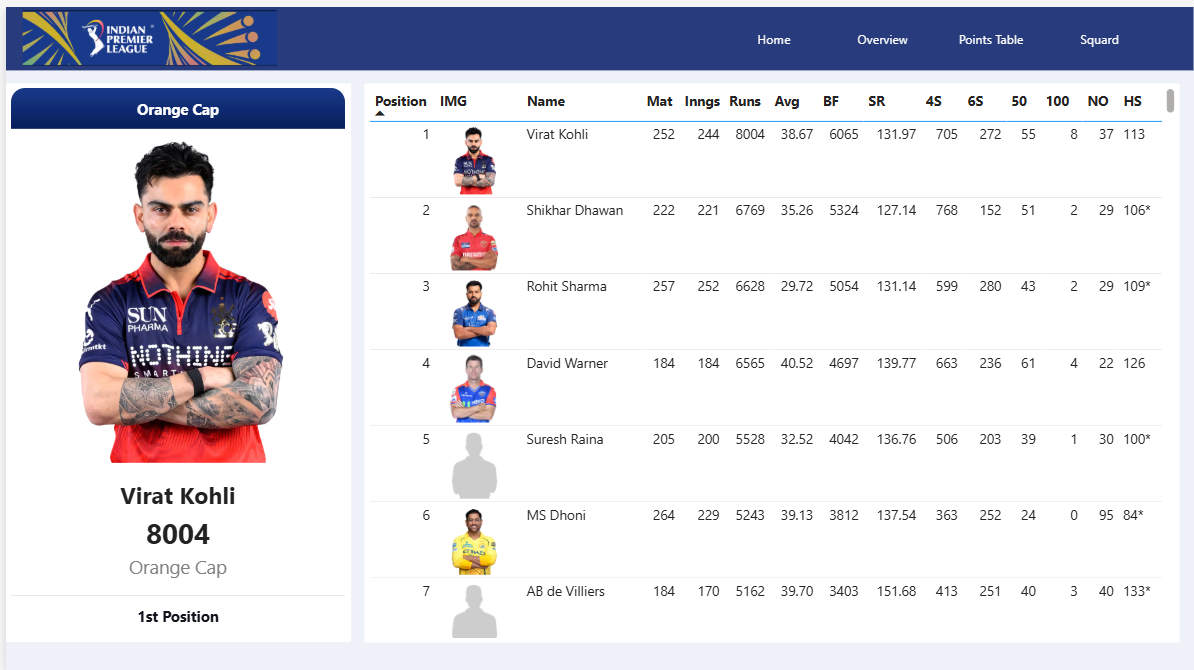

The page's visual inventory and layout, read from the dashboard file:
{"tool":"powerbi","page":{"name":"Orange Cap","canvas":[1280,720],"ordinal":4},"visuals":[{"type":"shape","box":[0,0,1280,68.3],"z":0},{"type":"image","box":[0,4,310,60],"z":1000},{"type":"pageNavigator","box":[775,10,458.3,50],"z":2000},{"type":"htmlContent443BE3AD55E043BF878BED274D3A6855","fields":{"content":["Records.Top_Players"]},"box":[0,82,372,602],"z":3000},{"type":"tableEx","fields":{"Values":["MostRuns.Position","MostRuns.IMG","MostRuns.Name","Sum(MostRuns.Mat)","Sum(MostRuns.Inngs)","Sum(MostRuns.Runs)","Sum(MostRuns.Avg)","Sum(MostRuns.BF)","Sum(MostRuns.SR)","Sum(MostRuns.4S)","Sum(MostRuns.6S)","Sum(MostRuns.50)"]},"box":[386,82,878,602],"z":4000}]}

Visuals, with their boxes in screenshot pixels (x1, y1, x2, y2), scaled from the page's 1280x720 canvas onto the 1194x670 screenshot:
shape: BBox(0, 0, 1193, 64)
image: BBox(0, 4, 289, 60)
pageNavigator: BBox(723, 9, 1150, 56)
htmlContent443BE3AD55E043BF878BED274D3A6855 - Records.Top_Players: BBox(0, 76, 347, 636)
tableEx - MostRuns.Position x MostRuns.IMG: BBox(360, 76, 1179, 636)
